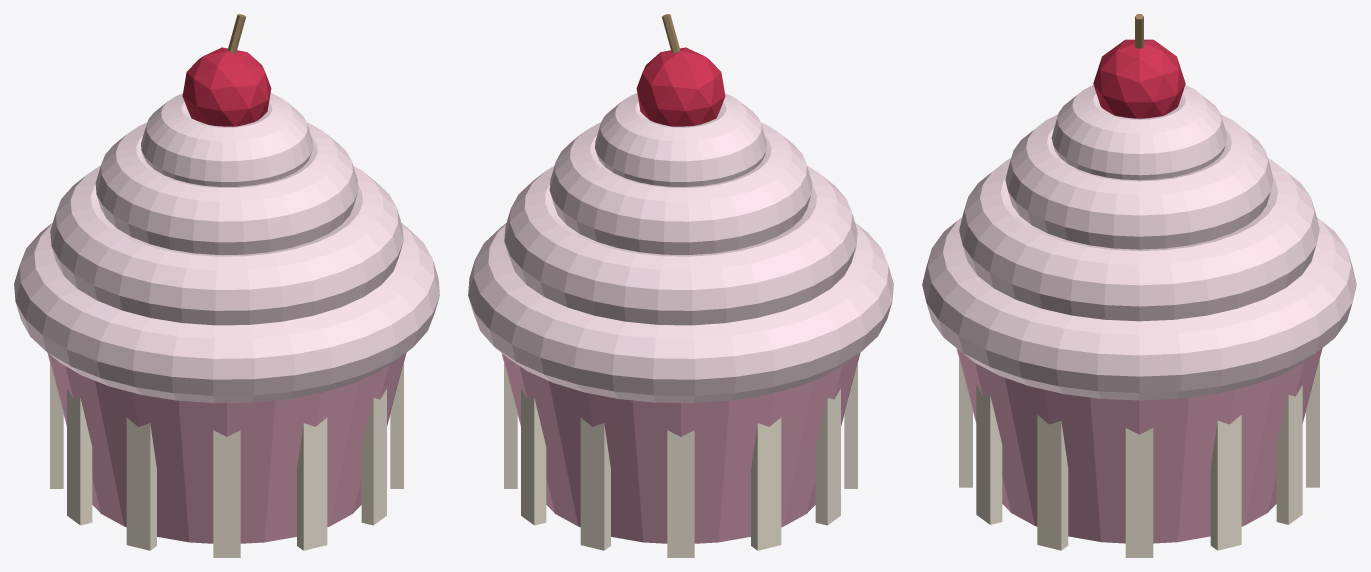
Rendered from HOB_Cupcake_Pink.fbx.
The picture shows the model from 3 angles, left to right: view 1: azimuth 30°, elevation 25°; view 2: azimuth 150°, elevation 25°; view 3: azimuth 270°, elevation 25°; orthographic projection.
Visible parts, largest first — view 1: HOB_Cupcake_Pink; view 2: HOB_Cupcake_Pink; view 3: HOB_Cupcake_Pink.
Part boxes in pixels (x1=…): HOB_Cupcake_Pink: x1=14, y1=14, x2=439, y2=557; HOB_Cupcake_Pink: x1=468, y1=14, x2=893, y2=557; HOB_Cupcake_Pink: x1=922, y1=14, x2=1356, y2=557.
Size of the model in its own units: 169 by 203 by 169.
